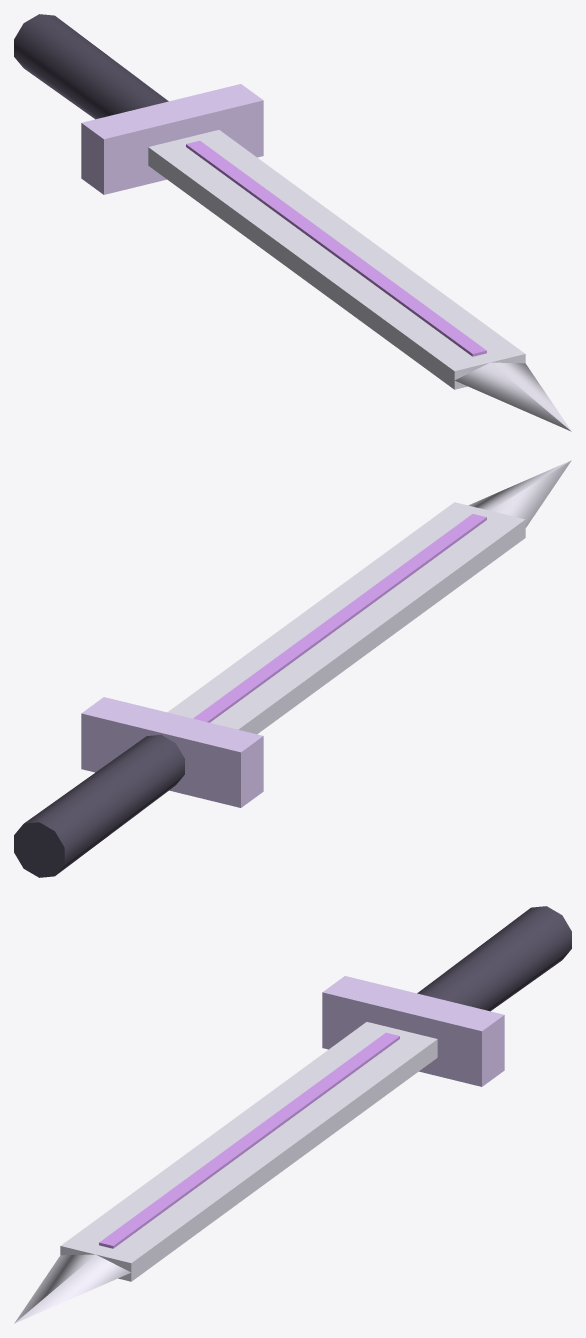
File: nyx_left.glb
The picture shows the model from 3 angles, top to bottom: view 1: azimuth 30°, elevation 25°; view 2: azimuth 150°, elevation 25°; view 3: azimuth 330°, elevation 25°; orthographic projection.
Visible parts, largest first — view 1: nyx_left; view 2: nyx_left; view 3: nyx_left.
Boxes of the visible parts, x1=… form: nyx_left: x1=14, y1=14, x2=571, y2=431; nyx_left: x1=14, y1=460, x2=571, y2=877; nyx_left: x1=14, y1=906, x2=571, y2=1323.
Size of the model in its own units: 0.09 by 0.03 by 0.52.
